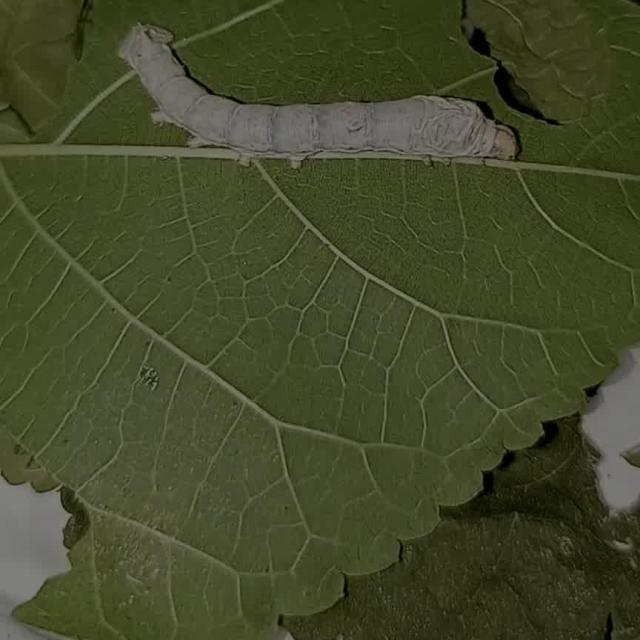Healthy: (104, 0, 542, 205)
